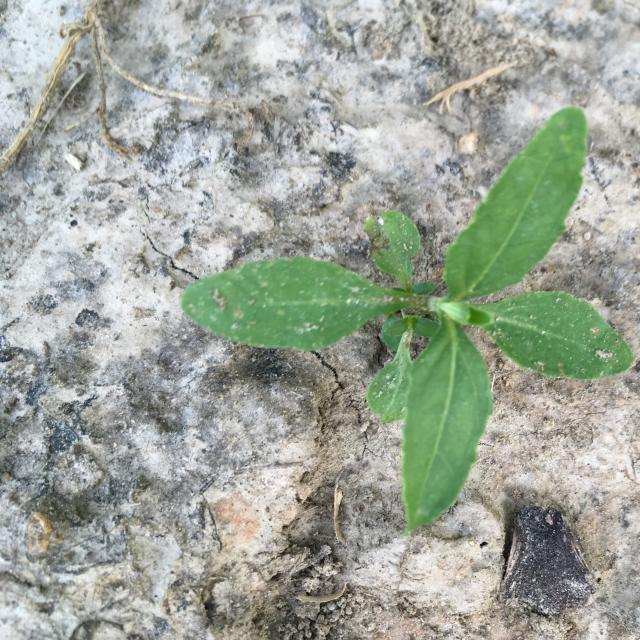Eclipta: (180, 106, 634, 537)
